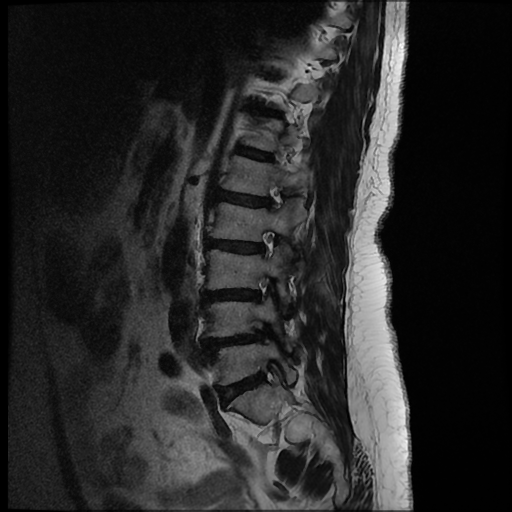RFS0: (250, 222, 284, 268)
RFS1: (247, 267, 277, 308)
